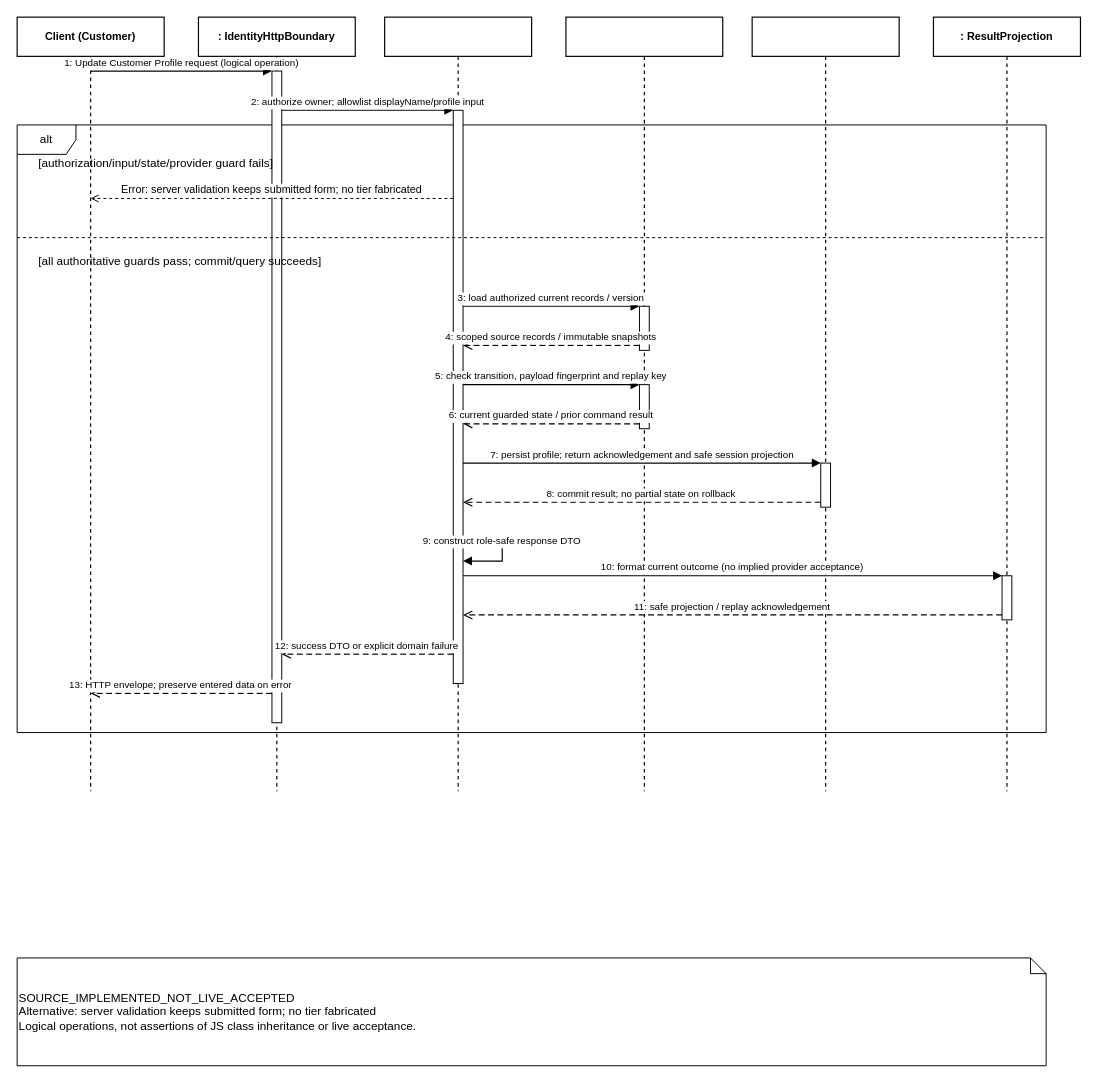
Image size: 1099x1084. Some labels were removed from this diagram. Here are the shapes that lost their labels. From the top down, the box of each, then its label:
(384, 16, 532, 791): : IdentityService
(565, 16, 723, 791): : ReadRepository
(751, 16, 899, 791): : TransactionRepository
